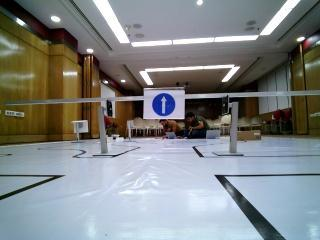straight: (144, 87, 187, 118)
